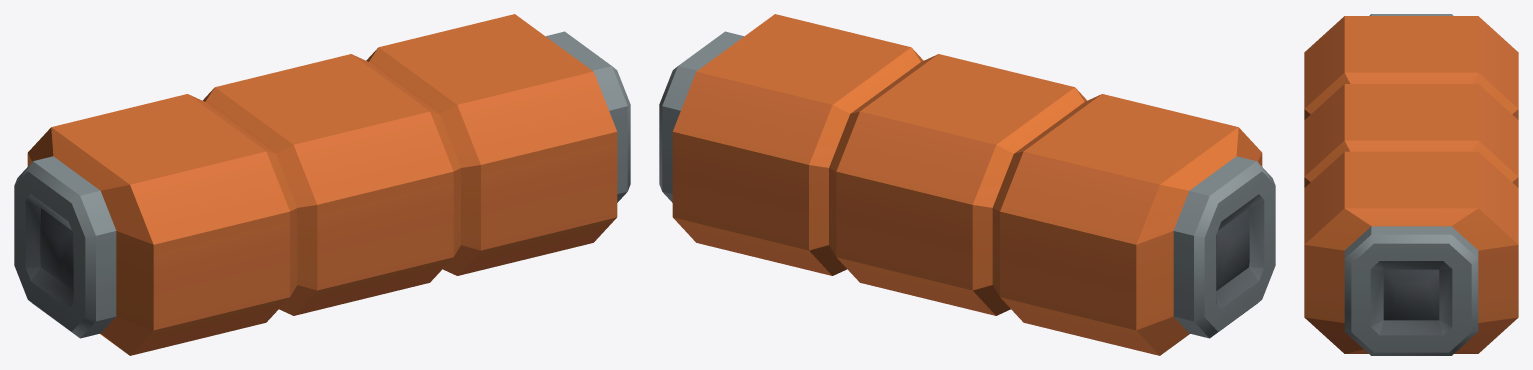
File: kay-tunel-b.gltf
The picture shows the model from 3 angles, left to right: view 1: azimuth 30°, elevation 25°; view 2: azimuth 150°, elevation 25°; view 3: azimuth 270°, elevation 25°; orthographic projection. The views are drawn at different scales.
Parts seen in each view (by area): view 1: tunnel_straight_B; view 2: tunnel_straight_B; view 3: tunnel_straight_B.
Part boxes in pixels (x1,y1,x2,y2): tunnel_straight_B: [14, 14, 630, 355]; tunnel_straight_B: [659, 14, 1275, 355]; tunnel_straight_B: [1304, 14, 1518, 355].
Bounding box in the file's own units: 5.2 × 1.56 × 2.08.
1 material, 1 textured.
